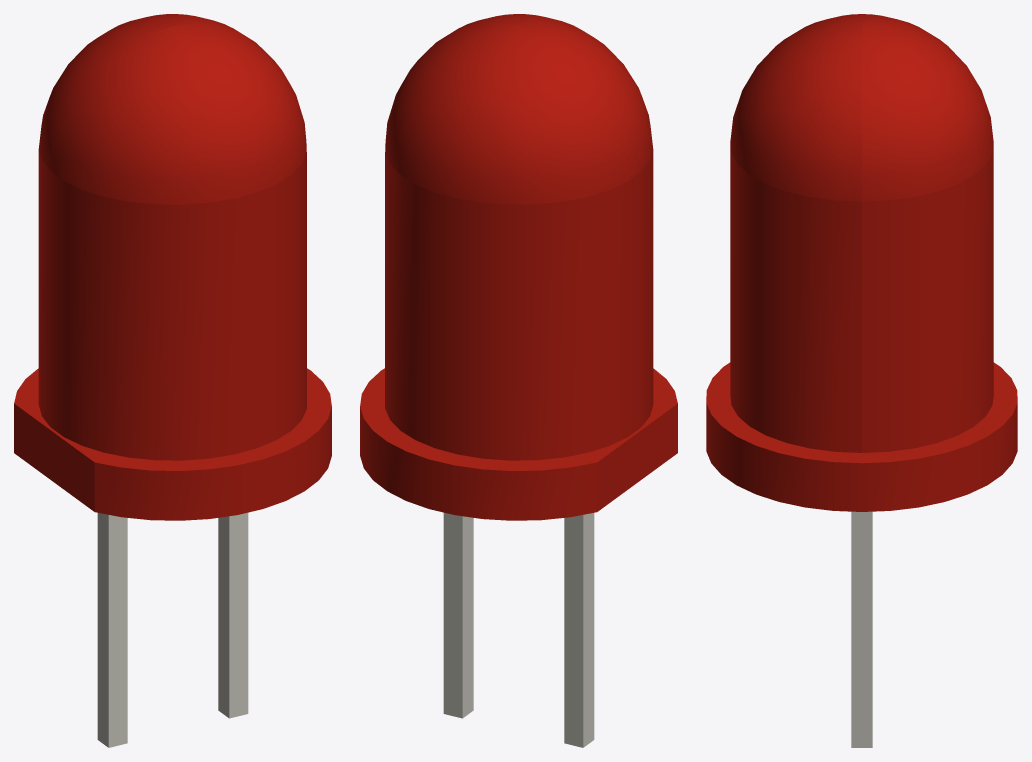
File: kc-led_d5.0mm.glb
3 renders of one model, left to right at view 1: azimuth 30°, elevation 25°; view 2: azimuth 150°, elevation 25°; view 3: azimuth 270°, elevation 25°, orthographic.
Parts seen in each view (by area): view 1: 0.4166666666666667_0_0_0, 0.6666666666666666_0.6666666666666666_0.5833333333333334_0.8; view 2: 0.4166666666666667_0_0_0, 0.6666666666666666_0.6666666666666666_0.5833333333333334_0.8; view 3: 0.4166666666666667_0_0_0, 0.6666666666666666_0.6666666666666666_0.5833333333333334_0.8.
Boxes of the visible parts, <box> form: 0.4166666666666667_0_0_0: <box>14,14,331,520</box>; 0.6666666666666666_0.6666666666666666_0.5833333333333334_0.8: <box>97,512,248,747</box>; 0.4166666666666667_0_0_0: <box>360,14,677,520</box>; 0.6666666666666666_0.6666666666666666_0.5833333333333334_0.8: <box>443,512,594,747</box>; 0.4166666666666667_0_0_0: <box>706,14,1017,511</box>; 0.6666666666666666_0.6666666666666666_0.5833333333333334_0.8: <box>851,511,872,747</box>.
Size of the model in its own units: 0.54 by 1.41 by 0.5782.
